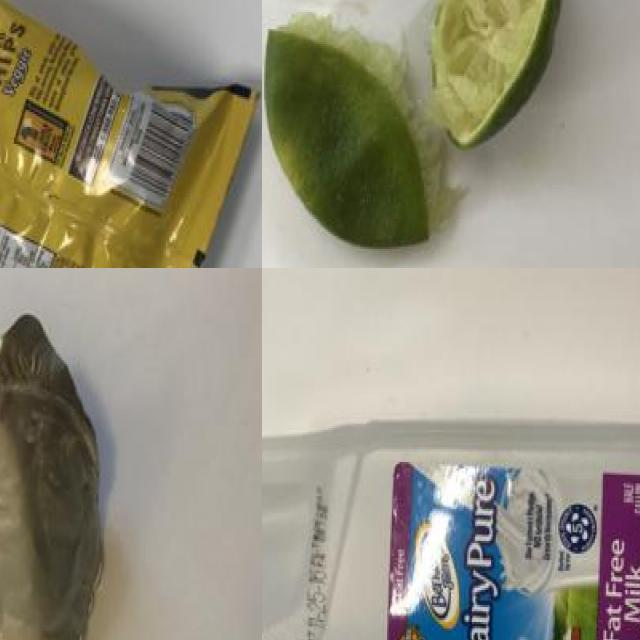compost: (262, 0, 571, 248)
plastic: (262, 426, 640, 640)
trash: (0, 0, 262, 268), (0, 292, 140, 640)
